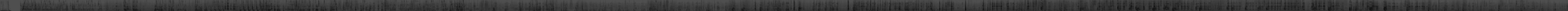Moan: (1117, 0, 1119, 11)
